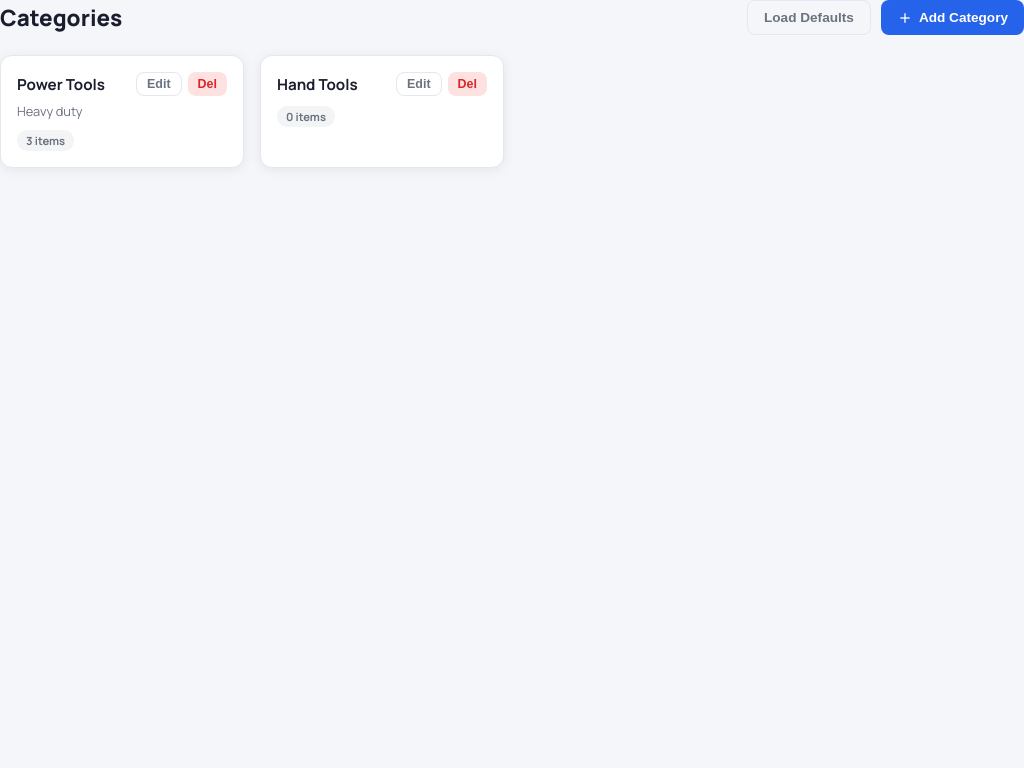
Test: CategoriesPage › shows an error if name is empty on save
The width and height of the screenshot is (1024, 768).
Expected: the text "Power Tools" is shown, [17,74,105,94]
Click the button "Add Category": (952, 18) [881,0,1023,35]
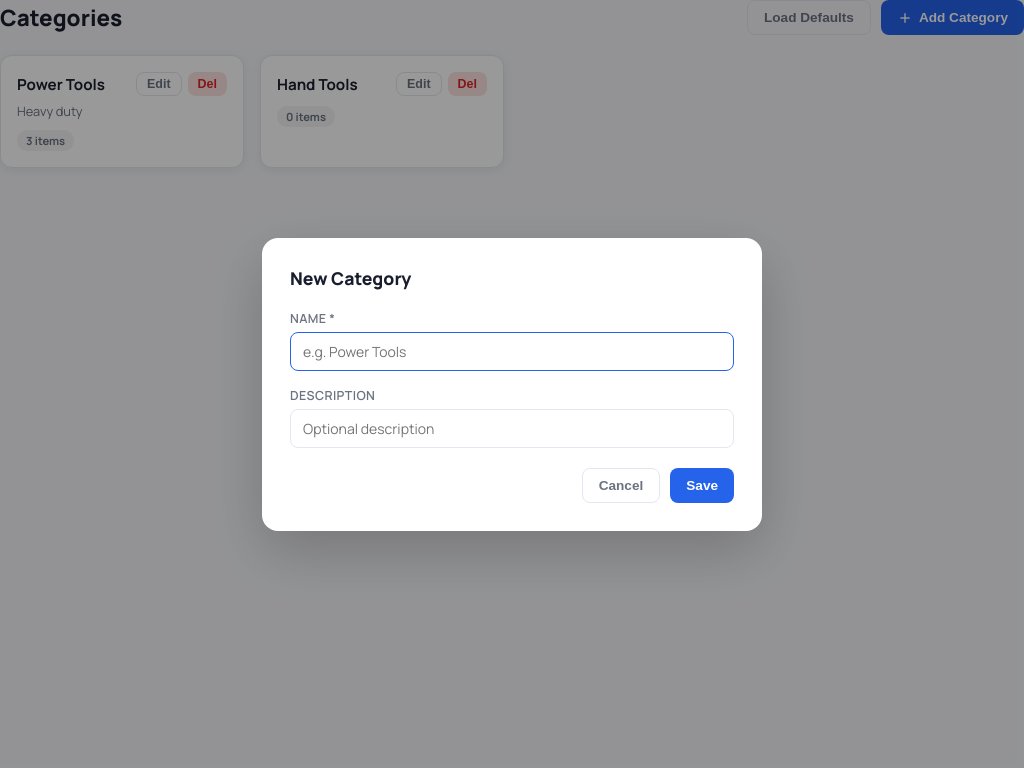
Click the button "Save": (702, 485) [670,468,734,502]
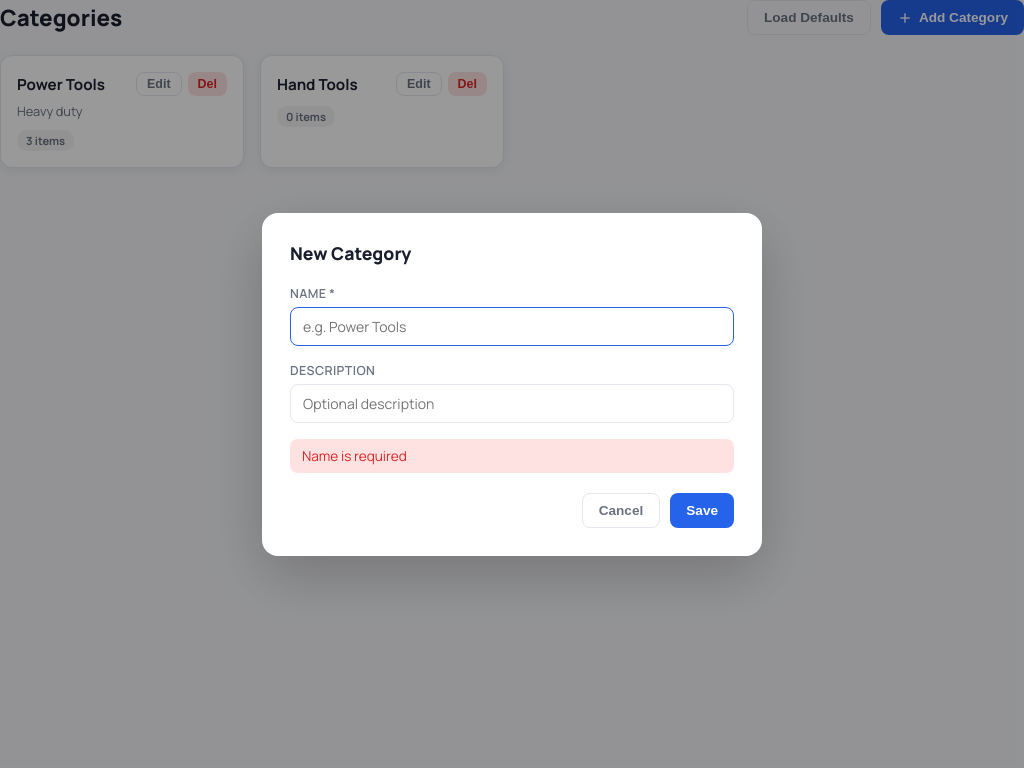
Expected: the text "Name is required" is shown, [290,438,734,472]
